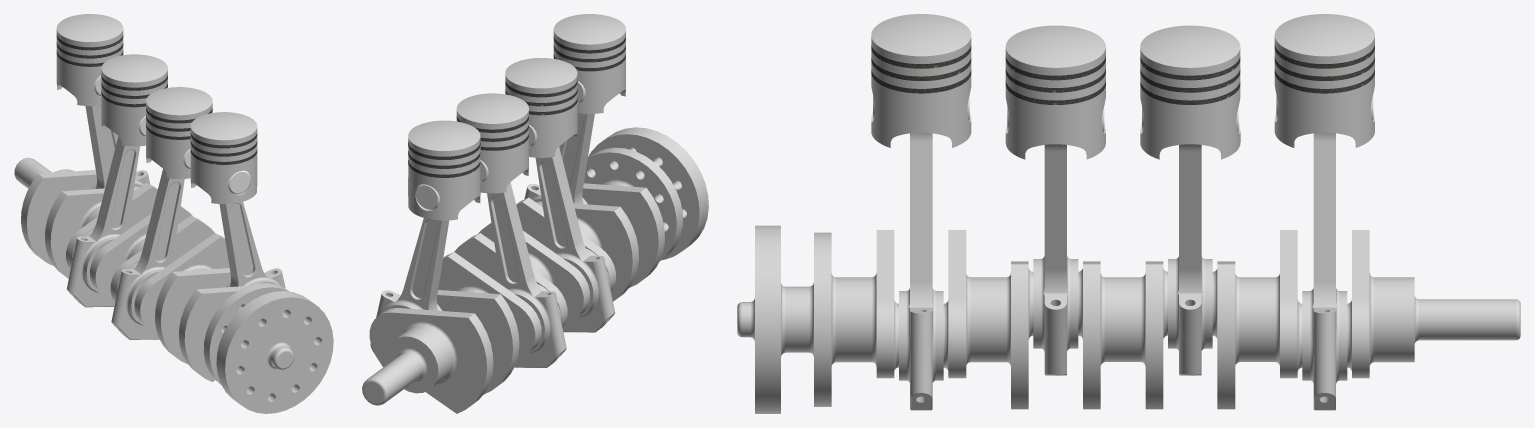
Rendered from Engine-Model.glb.
3 views of the same model, side by side, from view 1: azimuth 30°, elevation 25°; view 2: azimuth 150°, elevation 25°; view 3: azimuth 270°, elevation 25° (orthographic). The views are drawn at different scales.
Visible parts, largest first — view 1: Solid3, Solid2 (×4), Solid1 (×7); view 2: Solid3, Solid2 (×4), Solid1 (×7); view 3: Solid3, Solid2 (×4), Solid1 (×8).
Part boxes in pixels (<box>): Solid3: <box>14,157,333,413</box>; Solid2 (×4): <box>56,14,257,203</box>; Solid1 (×7): <box>66,105,285,339</box>; Solid3: <box>362,127,708,413</box>; Solid2 (×4): <box>408,14,625,220</box>; Solid1 (×7): <box>377,113,615,367</box>; Solid3: <box>737,225,1520,413</box>; Solid2 (×4): <box>871,14,1374,159</box>; Solid1 (×8): <box>899,132,1347,410</box>.
Bounding box in the file's own units: 0.1969 × 0.351 × 0.664.
3 materials, 1 textured.
